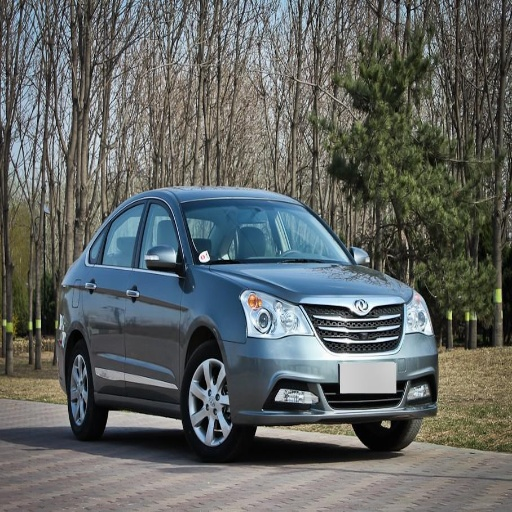front_bumper: (224, 294, 437, 424)
front_right_door: (120, 198, 187, 399)
front_right_light: (240, 289, 310, 337)
